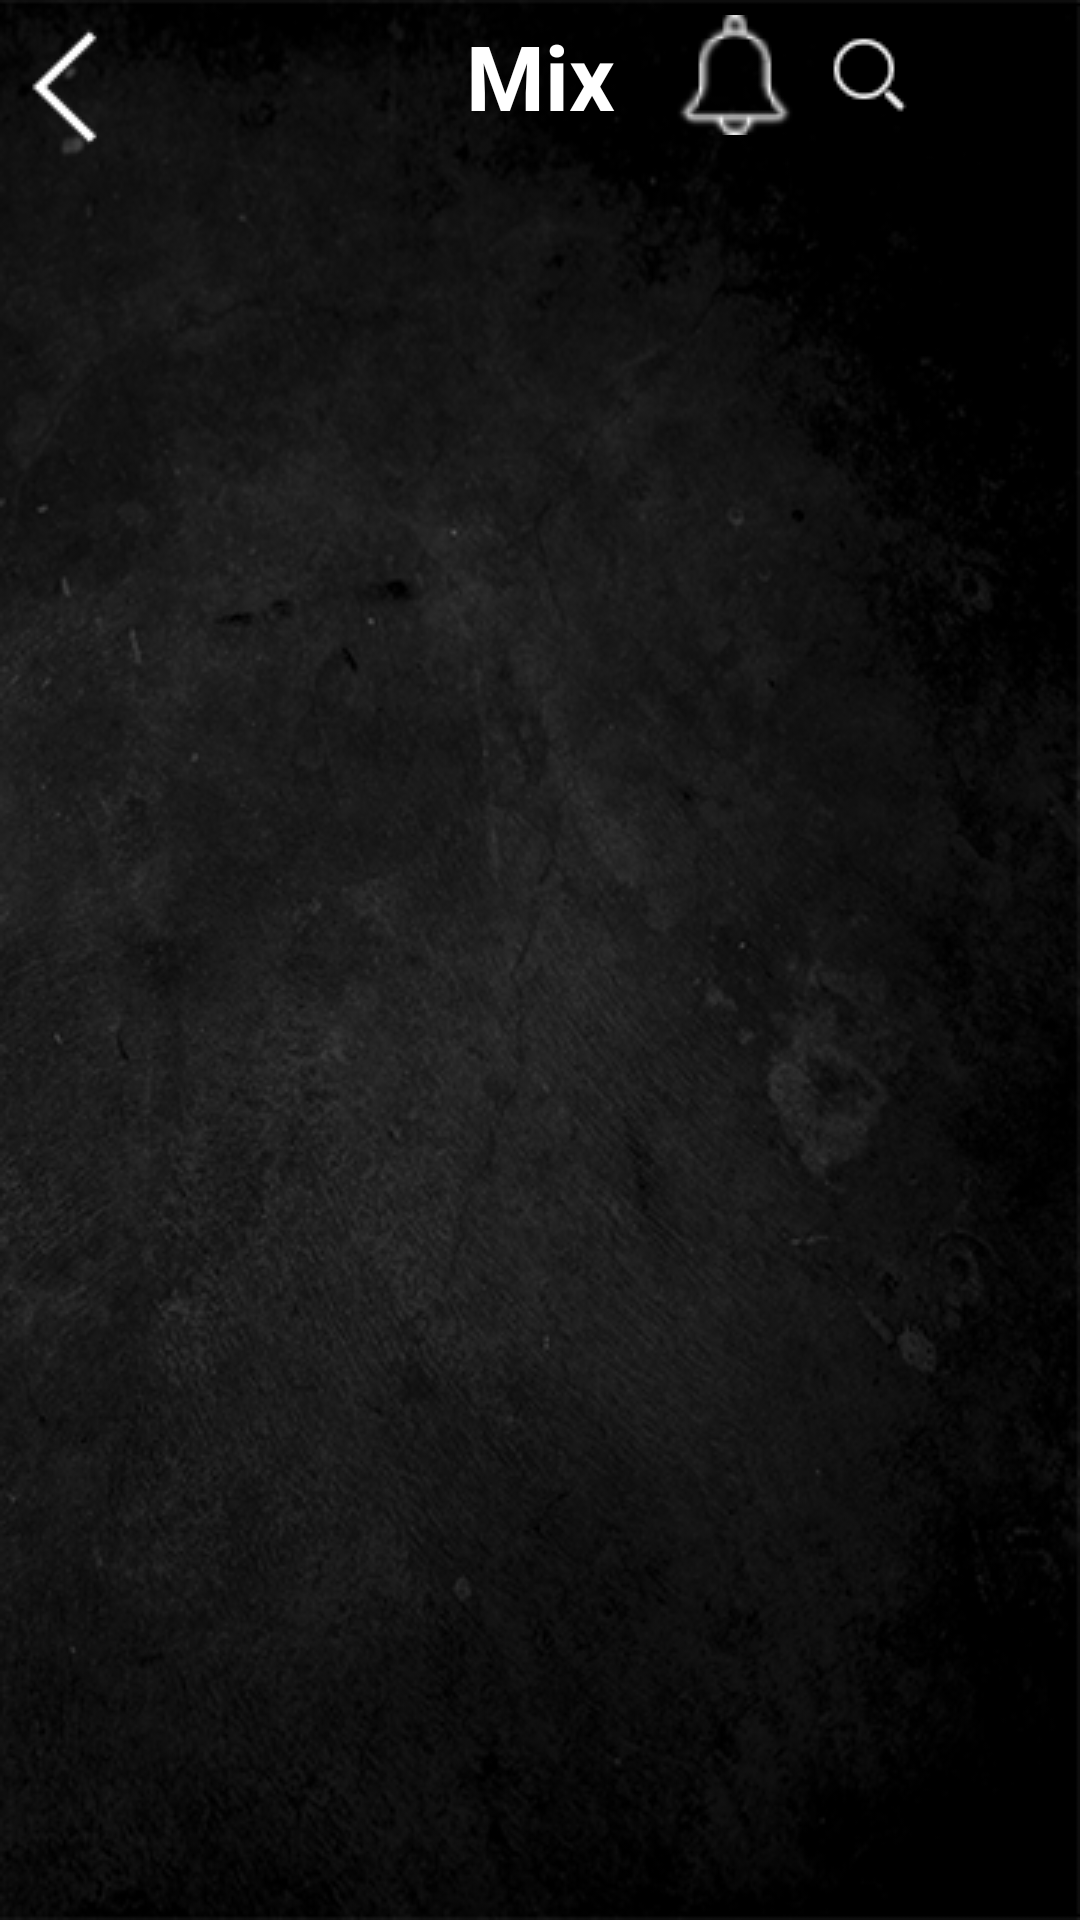

Named icons in this screenshot (1080 × 1920) and their bounding boxes, (x1, y1, x2, y2):
backbutton: (32, 31, 97, 153)
bell: (680, 15, 790, 135)
search: (833, 38, 906, 112)
